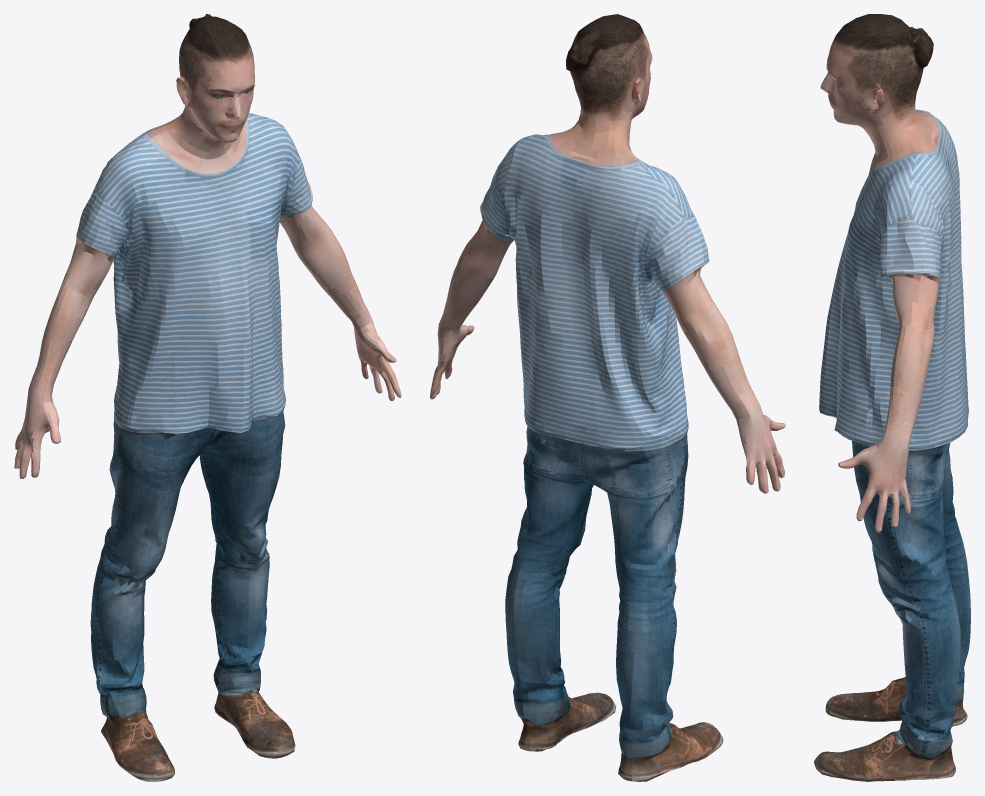
Rendered from vincent2.obj.
The picture shows the model from 3 angles, left to right: view 1: azimuth 30°, elevation 25°; view 2: azimuth 150°, elevation 25°; view 3: azimuth 270°, elevation 25°; orthographic projection. The views are drawn at different scales.
Parts seen in each view (by area): view 1: Group4_20, Group5_10, Group5_45, Group5_11, Group5_16, Group4_8, Group5_62, Group4_7, Group5_20, Group5_49, ZBrush_defualt_group, Group3_9 (+32 smaller); view 2: Group5_68, Group5_69, Group5_44, Group5_34, Group4_32, Group5_55, Group4_55, Group4_36, Group5_65, Group4_20, ZBrush_defualt_group_10, Group6_13 (+38 smaller); view 3: Group5_20, Group4_16, Group5_69, Group4_35, Group5_68, ZBrush_defualt_group_5, Group5_41, Group5_36, Group3, Group3_13, Group4_47, Group5_62 (+39 smaller).
Part boxes in pixels (bbox=[...]): Group4_20: bbox=[90, 553, 266, 664]; Group5_10: bbox=[143, 144, 281, 253]; Group5_45: bbox=[175, 309, 243, 426]; Group5_11: bbox=[163, 168, 251, 302]; Group5_16: bbox=[90, 140, 169, 267]; Group4_8: bbox=[111, 462, 182, 585]; Group5_62: bbox=[220, 210, 277, 387]; Group4_7: bbox=[206, 411, 285, 534]; Group5_20: bbox=[126, 187, 286, 434]; Group5_49: bbox=[76, 174, 185, 360]; ZBrush_defualt_group: bbox=[198, 27, 254, 142]; Group3_9: bbox=[279, 205, 351, 294]; Group5_68: bbox=[521, 310, 638, 435]; Group5_69: bbox=[519, 231, 650, 437]; Group5_44: bbox=[560, 157, 668, 253]; Group5_34: bbox=[593, 217, 673, 451]; Group4_32: bbox=[527, 435, 658, 749]; Group5_55: bbox=[501, 162, 583, 242]; Group4_55: bbox=[513, 472, 654, 693]; Group4_36: bbox=[513, 524, 566, 632]; Group5_65: bbox=[588, 244, 629, 357]; Group4_20: bbox=[512, 587, 676, 701]; ZBrush_defualt_group_10: bbox=[581, 65, 632, 165]; Group6_13: bbox=[662, 278, 728, 370]; Group5_20: bbox=[840, 237, 947, 410]; Group4_16: bbox=[874, 529, 958, 663]; Group5_69: bbox=[839, 199, 968, 425]; Group4_35: bbox=[898, 464, 944, 579]; Group5_68: bbox=[862, 332, 968, 447]; ZBrush_defualt_group_5: bbox=[836, 36, 892, 125]; Group5_41: bbox=[886, 151, 946, 230]; Group5_36: bbox=[887, 208, 944, 279]; Group3: bbox=[844, 386, 908, 505]; Group3_13: bbox=[864, 326, 925, 459]; Group4_47: bbox=[898, 613, 959, 712]; Group5_62: bbox=[822, 227, 866, 382].
Bounding box in the file's own units: 3.17 × 6.04 × 1.17.
Materials: 1 (1 with a texture image).
